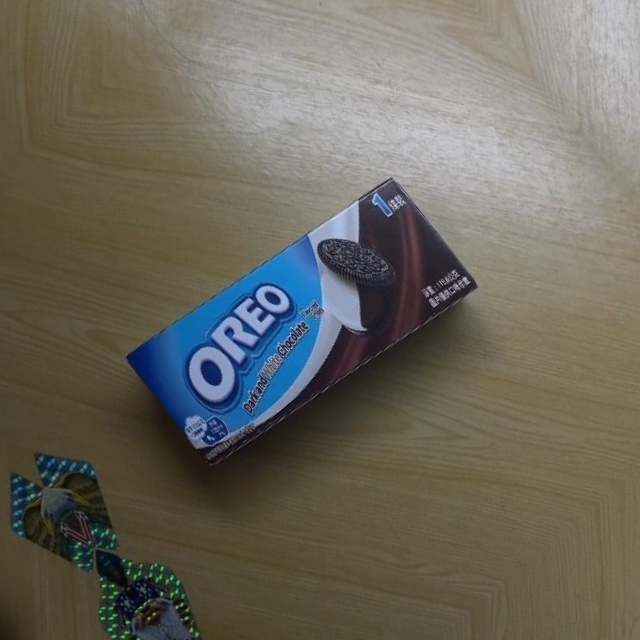Oreo: (118, 149, 485, 497)
